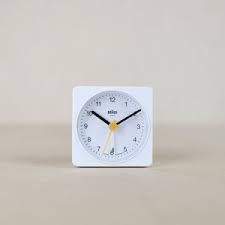alarm_clock: (68, 83, 153, 167)
